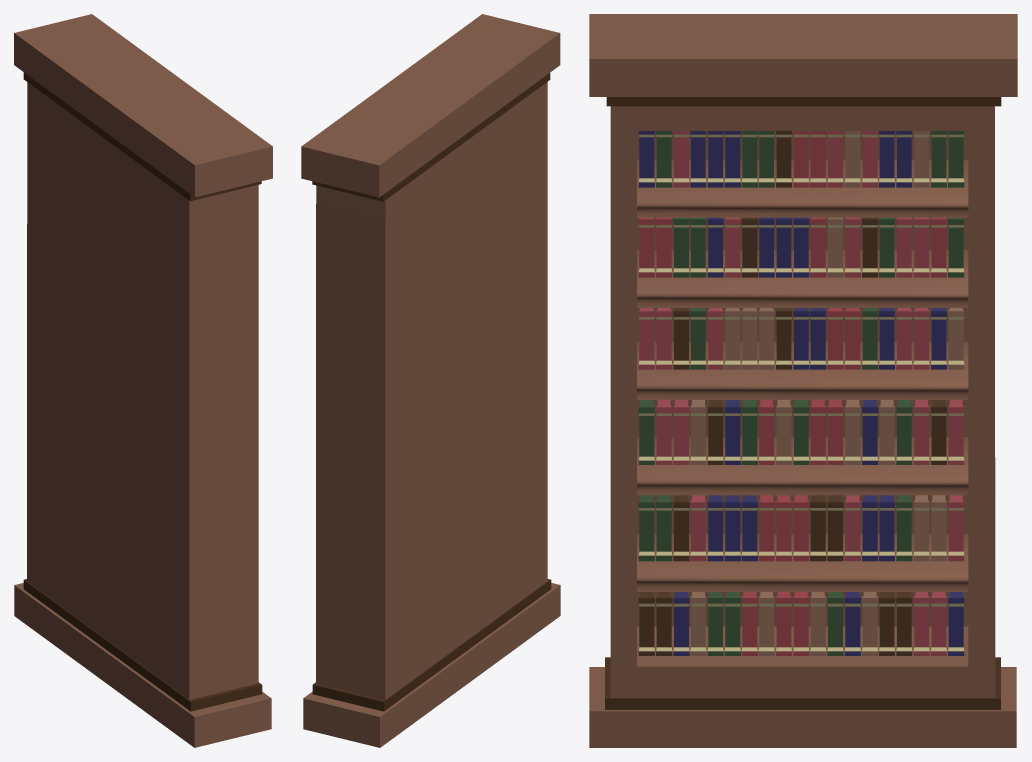
The model's file is bookshelf.fbx.
The picture shows the model from 3 angles, left to right: view 1: azimuth 30°, elevation 25°; view 2: azimuth 150°, elevation 25°; view 3: azimuth 270°, elevation 25°; orthographic projection. The views are drawn at different scales.
Visible parts, largest first — view 1: Cube; view 2: Cube; view 3: Cube, Cube.007, Cube.004, Cube.001, Cube.003, Cube.002, Cube.005.
Part boxes in pixels (left/top/right/bottom): Cube: left=14, top=14, right=272, bottom=747; Cube: left=301, top=14, right=560, bottom=747; Cube: left=589, top=14, right=1017, bottom=747; Cube.007: left=638, top=131, right=964, bottom=655; Cube.004: left=637, top=437, right=968, bottom=495; Cube.001: left=637, top=159, right=968, bottom=217; Cube.003: left=637, top=342, right=968, bottom=399; Cube.002: left=637, top=250, right=968, bottom=307; Cube.005: left=637, top=534, right=968, bottom=591.
Bounding box in the file's own units: 162 × 1155 × 650.
